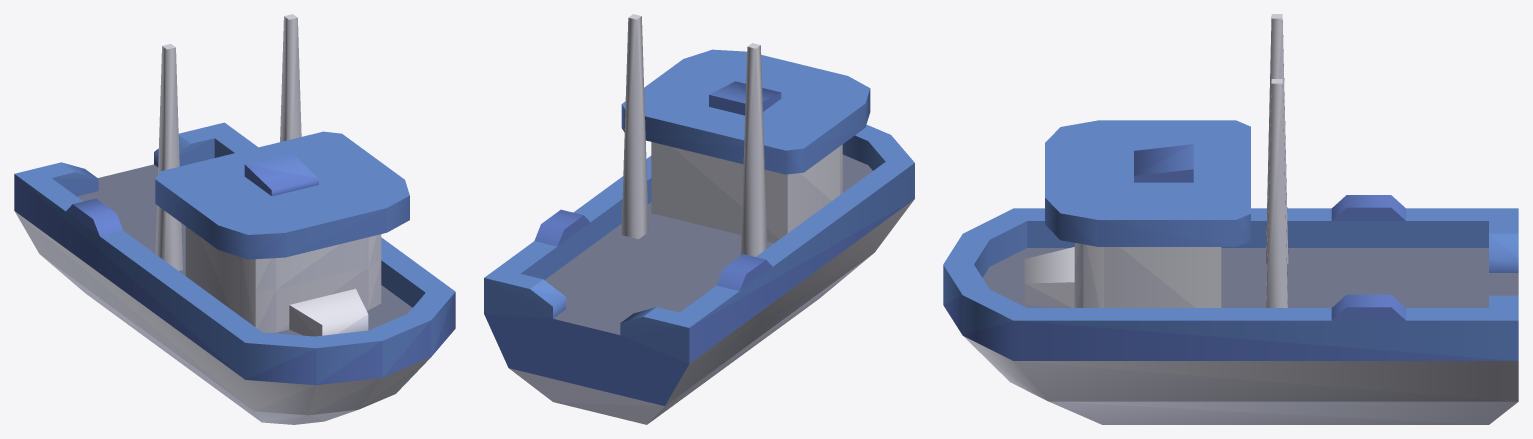
The picture shows the model from 3 angles, left to right: view 1: azimuth 30°, elevation 25°; view 2: azimuth 150°, elevation 25°; view 3: azimuth 270°, elevation 25°; orthographic projection. The views are drawn at different scales.
Visible parts, largest first — view 1: boat-fishing-small; view 2: boat-fishing-small; view 3: boat-fishing-small.
Boxes of the visible parts, box(x1,y1,x2,y2) form: boat-fishing-small: box(14, 14, 455, 424); boat-fishing-small: box(484, 14, 914, 424); boat-fishing-small: box(943, 14, 1518, 424).
Bounding box in the file's own units: 2.88 × 4.2 × 6.25.
